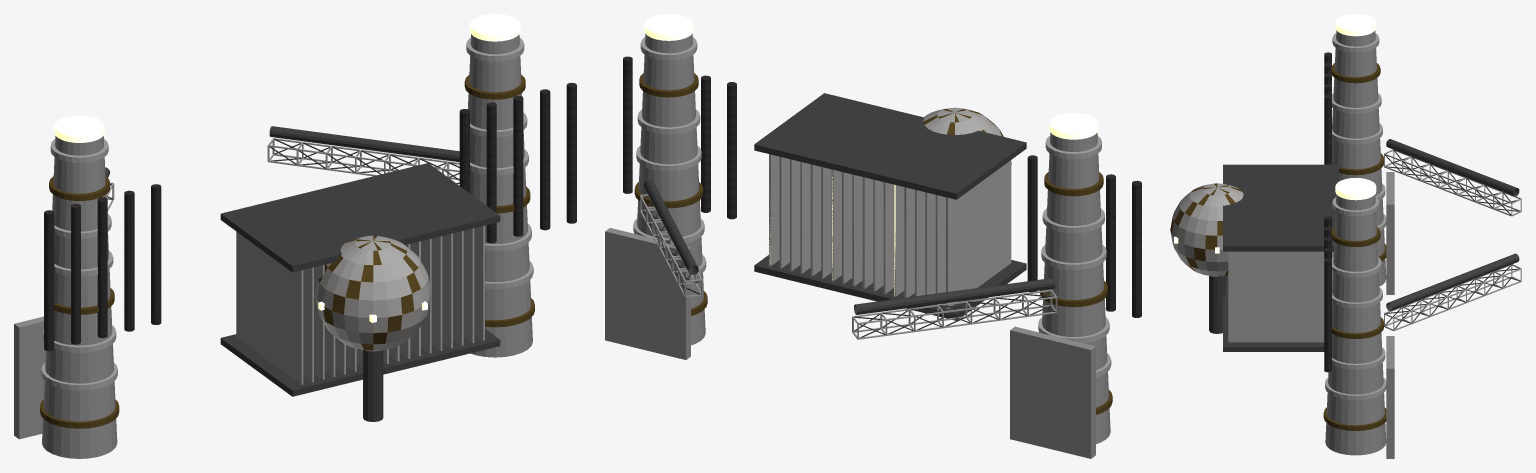
Rendered from foundry-surroundings.glb.
The picture shows the model from 3 angles, left to right: view 1: azimuth 30°, elevation 25°; view 2: azimuth 150°, elevation 25°; view 3: azimuth 270°, elevation 25°; orthographic projection. The views are drawn at different scales.
Parts seen in each view (by area): view 1: vantor_s0; view 2: vantor_s0; view 3: vantor_s0.
Part boxes in pixels (x1,y1,x2,y2): vantor_s0: [14, 14, 576, 458]; vantor_s0: [605, 14, 1141, 458]; vantor_s0: [1170, 14, 1521, 458].
Size of the model in its own units: 179 by 102 by 127.
Materials: 6 (2 with a texture image).
